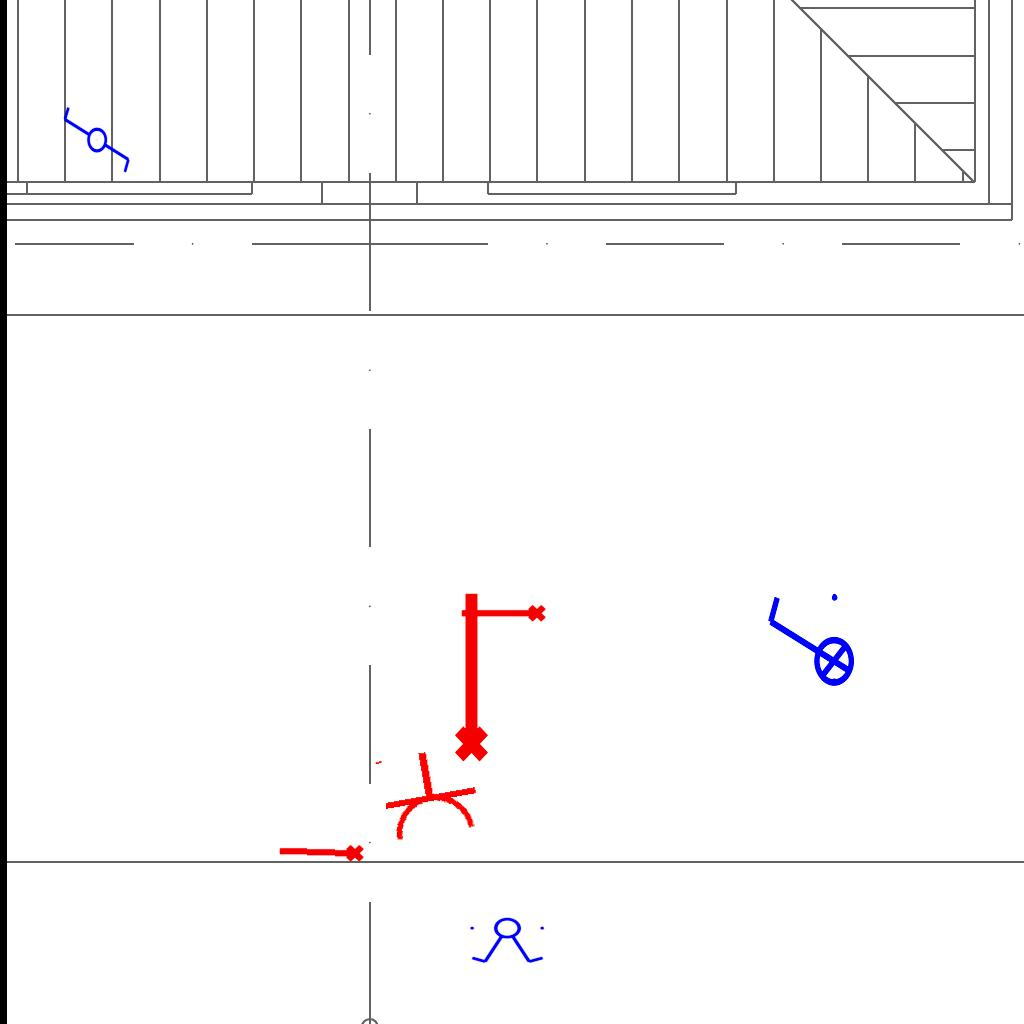ASR_Ansaugoeffnung: (446, 588, 492, 764), (276, 840, 366, 867), (459, 603, 547, 626)
Ausschalter_beleuchtet: (760, 588, 856, 700)
Schukosteckdose_einfach: (370, 742, 485, 846)
Serienschalter: (466, 917, 550, 965)
Wechselschalter: (60, 105, 132, 183)
